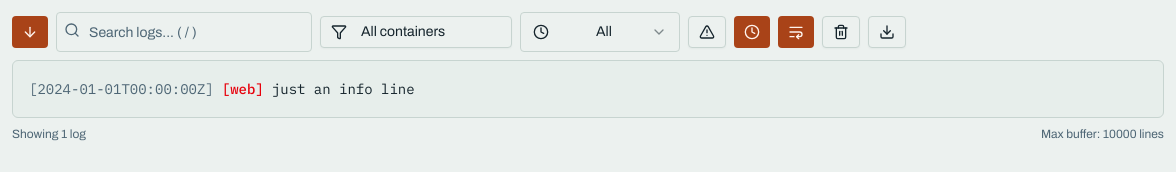
LogViewer › shows a distinct empty-state message when the errors-only filter matches nothing
Click the button titled "Show errors & warnings only". click: {"x": 707, "y": 32}
box: [688, 16, 726, 48]
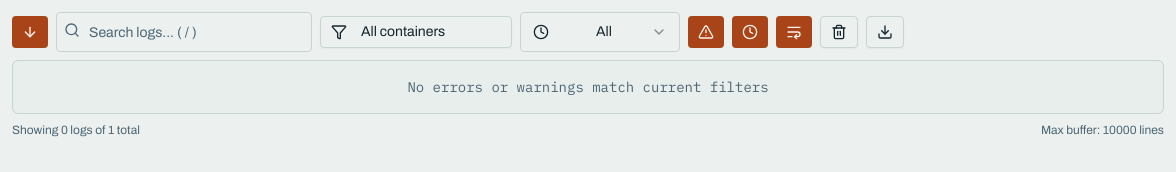
Result: the text "No errors or warnings match current filters" is shown at [407, 78, 769, 96]
